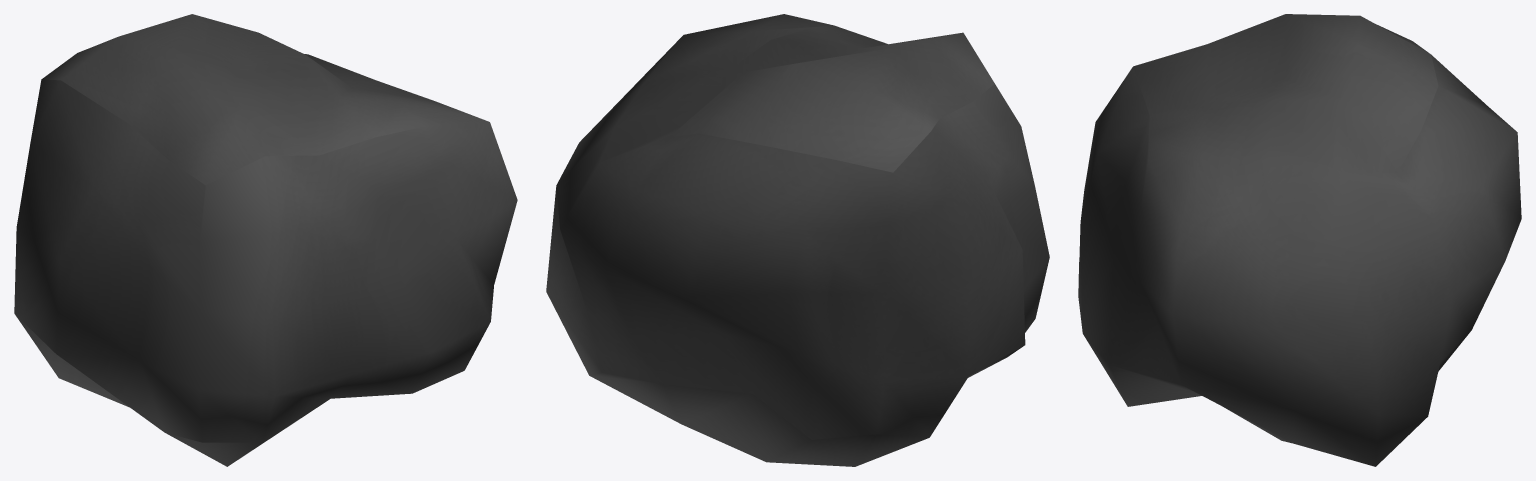
File: Roca1.fbx
3 views of the same model, side by side, from view 1: azimuth 30°, elevation 25°; view 2: azimuth 150°, elevation 25°; view 3: azimuth 270°, elevation 25° (orthographic). The views are drawn at different scales.
Parts seen in each view (by area): view 1: Cube; view 2: Cube; view 3: Cube.
Part boxes in pixels (x1,y1,x2,y2): Cube: (14,14,517,466); Cube: (546,14,1049,466); Cube: (1078,14,1521,466).
Size of the model in its own units: 162 by 142 by 149.
